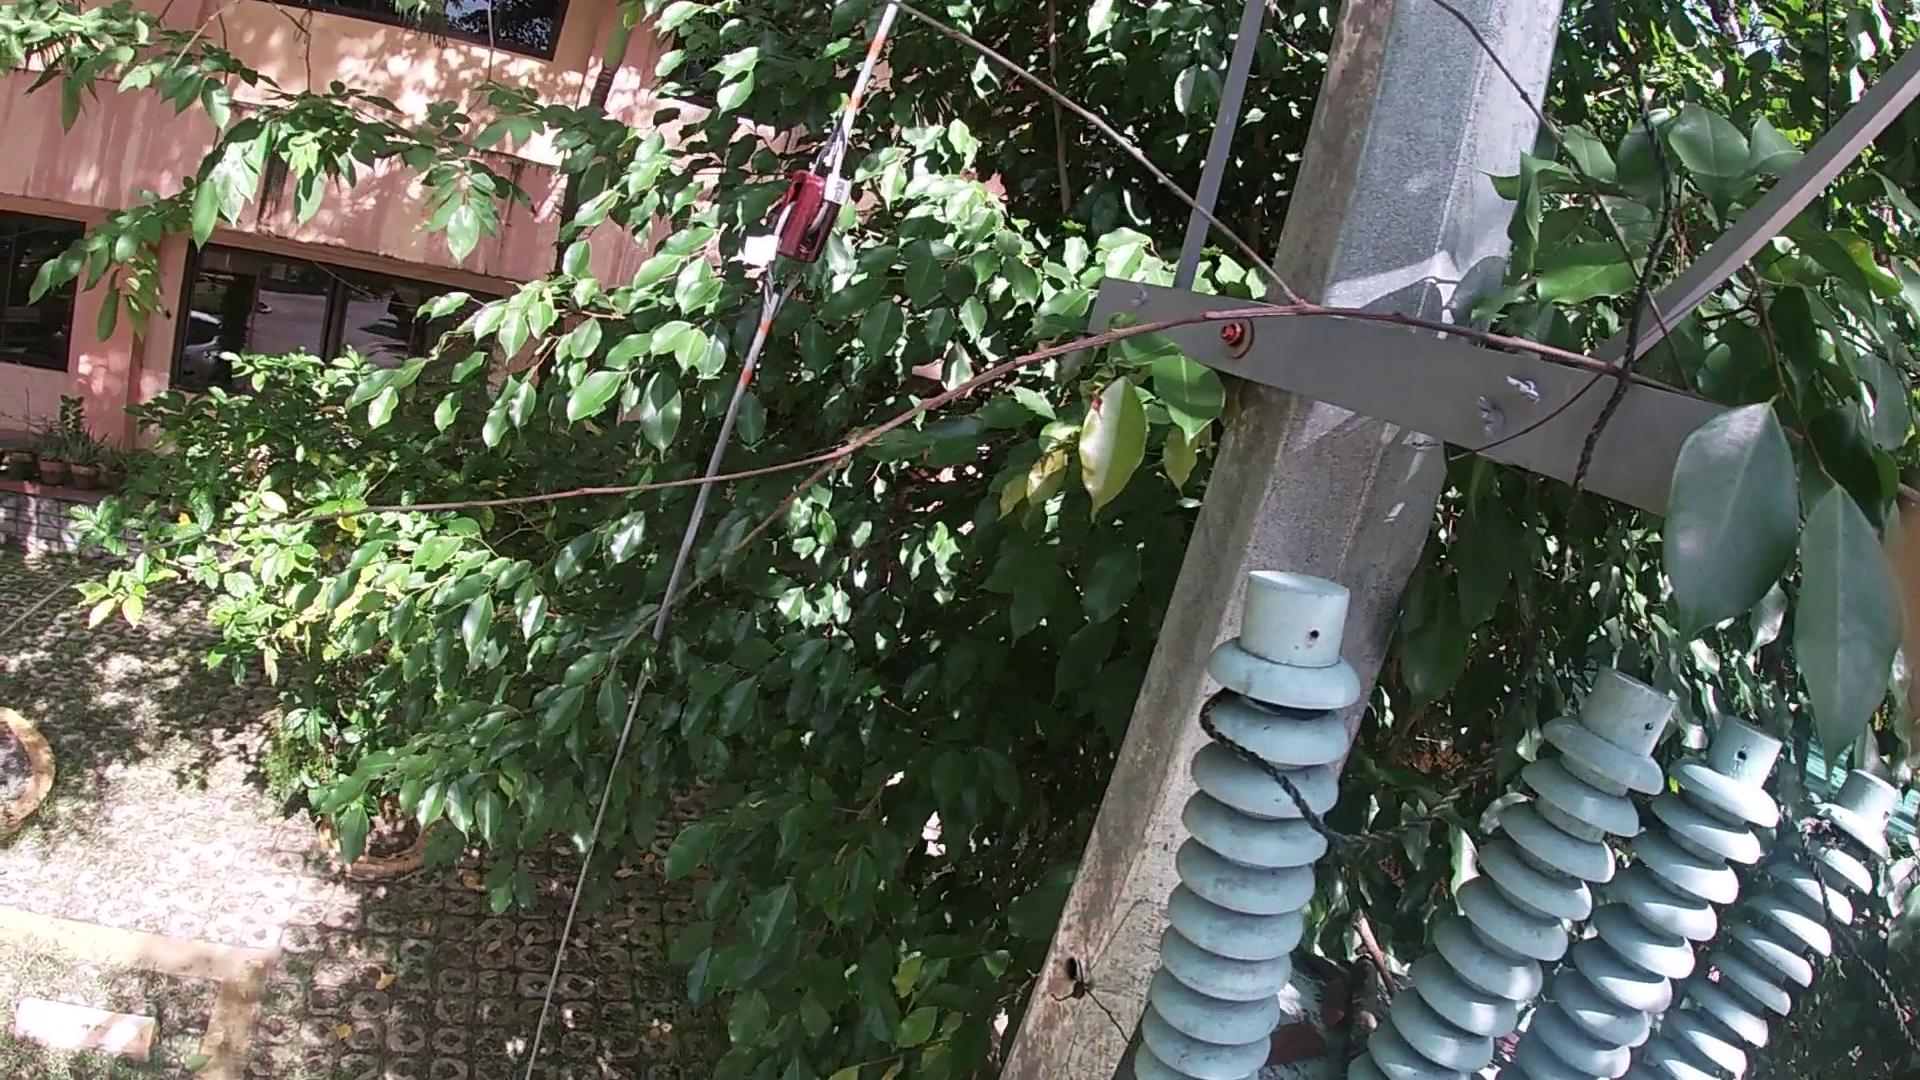leaf: (1269, 1021, 1329, 1071), (1327, 975, 1352, 1044)
tree branch: (247, 7, 1920, 700), (1342, 951, 1385, 1058), (1353, 914, 1408, 994)
